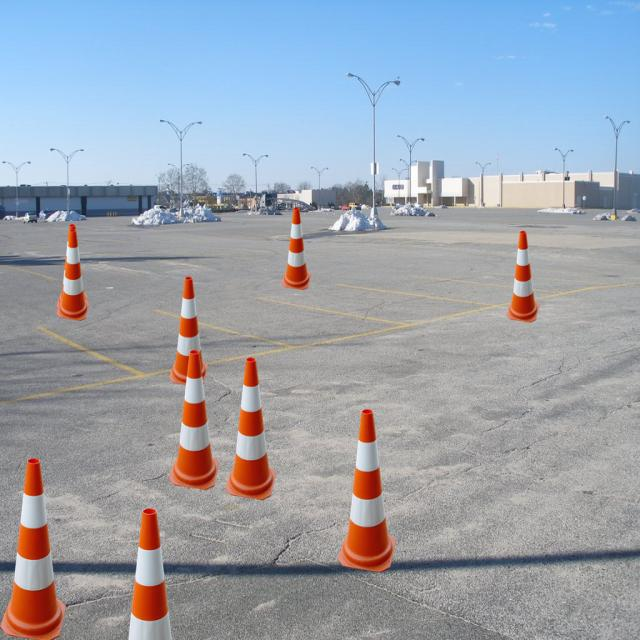large_orange_cone: (0, 458, 66, 640), (112, 508, 186, 640), (338, 409, 397, 573), (225, 358, 276, 500), (169, 350, 219, 490), (169, 276, 208, 386), (56, 229, 90, 321), (506, 231, 540, 322), (56, 224, 88, 314), (281, 208, 311, 290)
